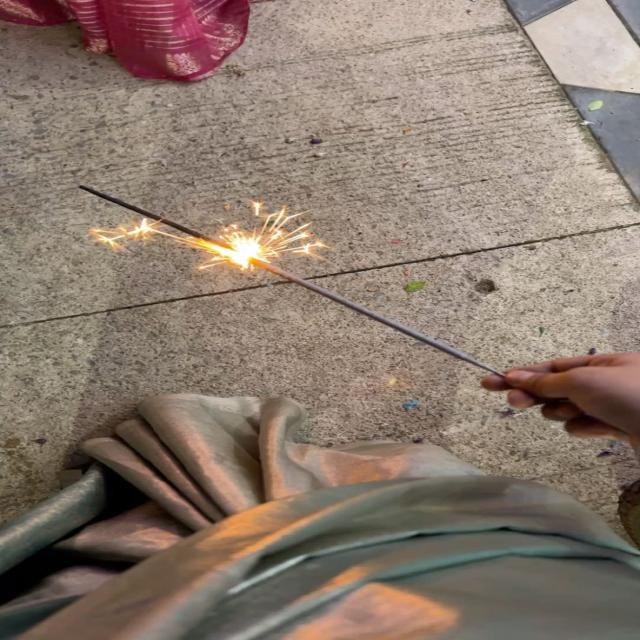fire: (188, 200, 333, 271), (87, 218, 189, 254)
